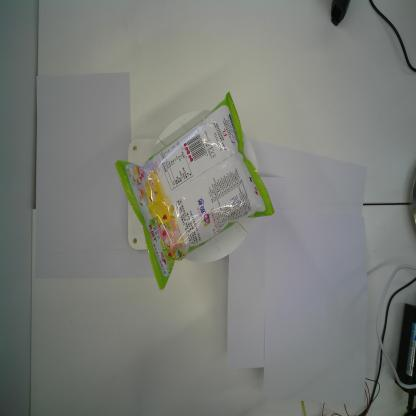Puffed Food: (116, 90, 276, 290)
